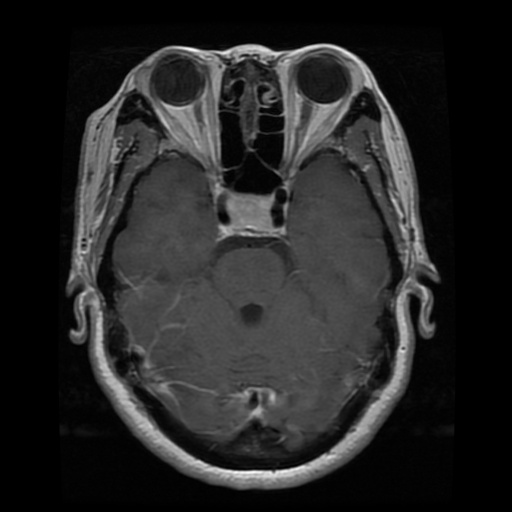pituitary: (228, 194, 271, 230)
